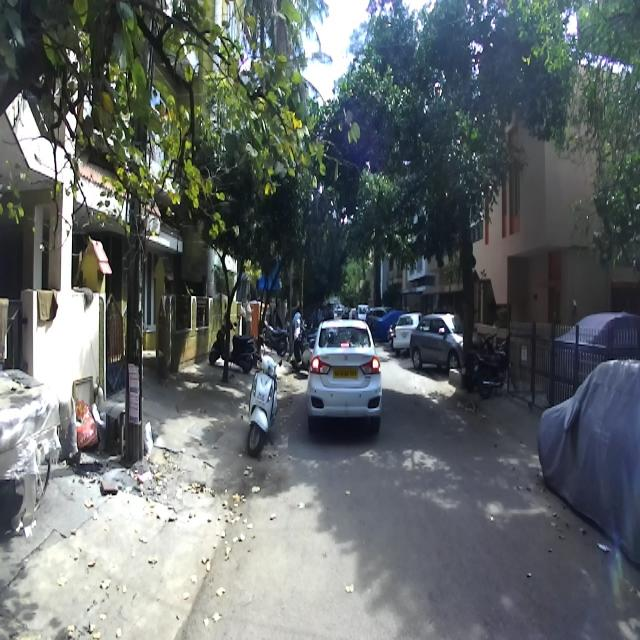Car: (537, 359, 639, 563), (546, 311, 638, 408)
Car_Maruti-Suzuki: (306, 317, 382, 433), (409, 312, 485, 372)
motorcycle: (473, 331, 512, 397)
scooter: (245, 345, 282, 457), (208, 302, 258, 373)
